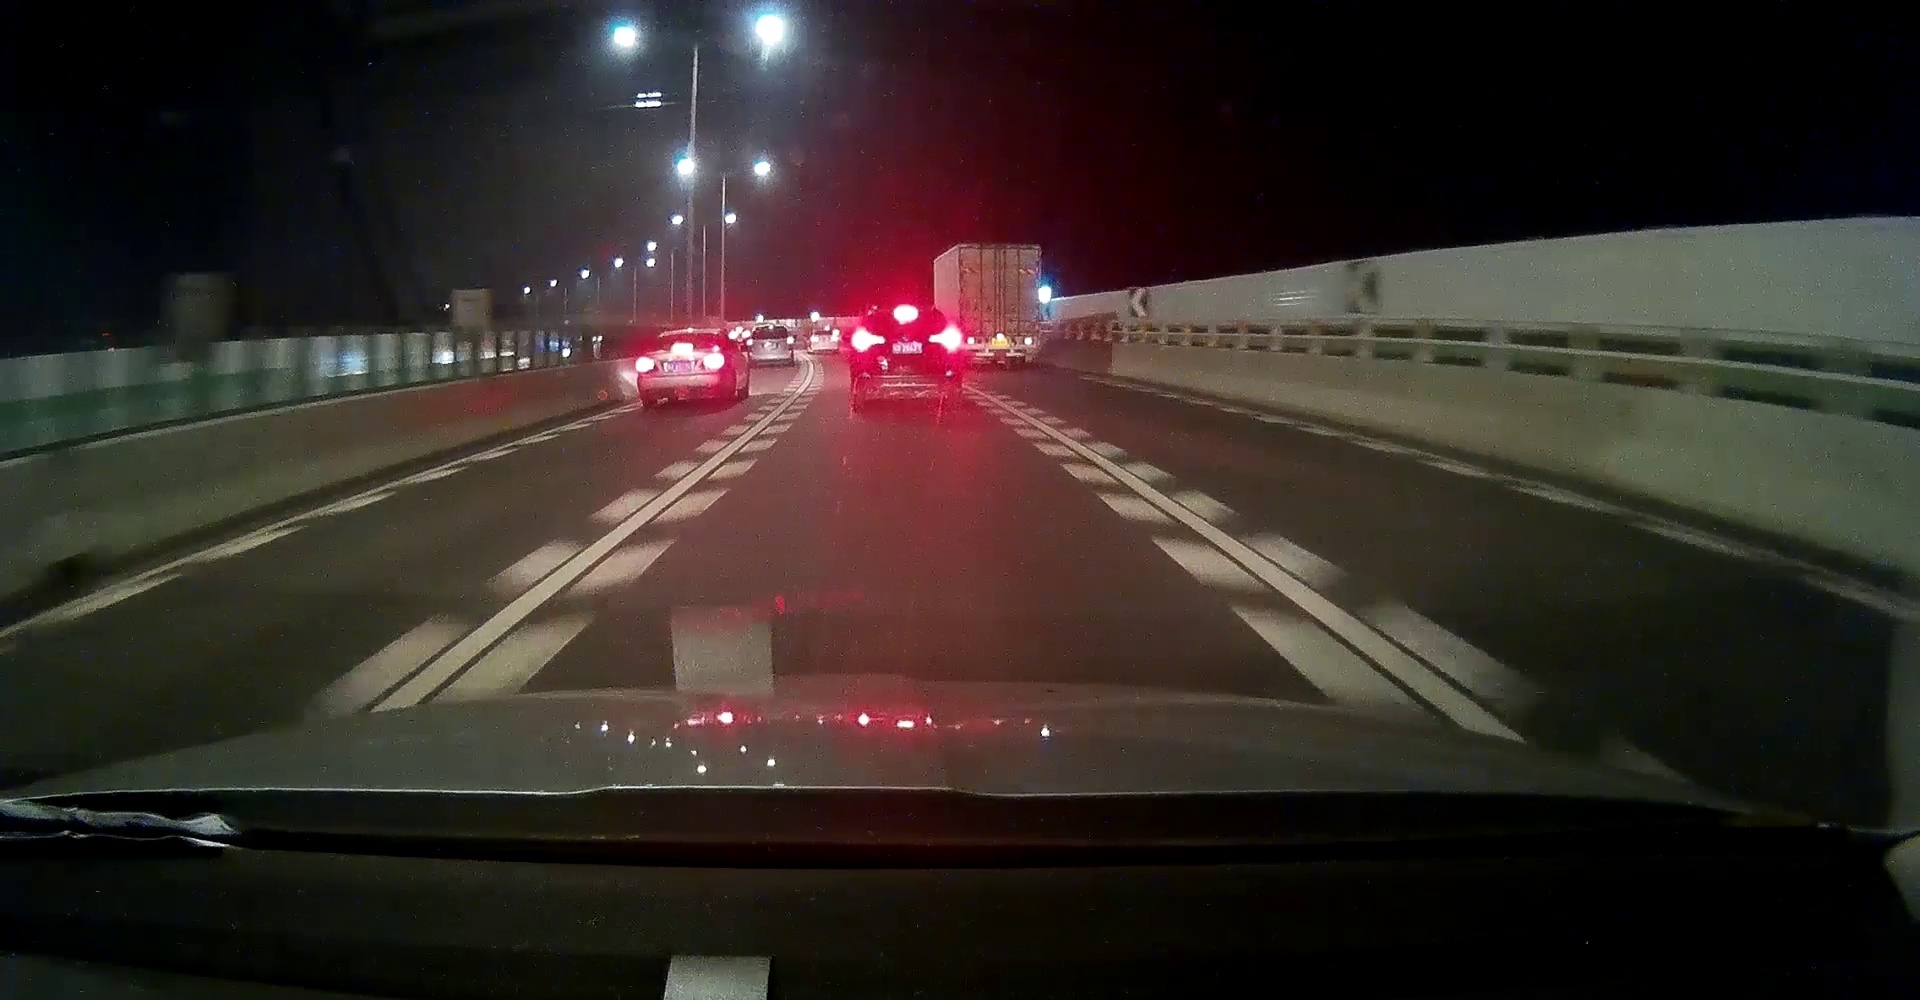L_light: (852, 332, 884, 350), (637, 358, 658, 372), (747, 339, 753, 346)
R_light: (928, 331, 960, 350), (698, 355, 721, 371), (787, 338, 794, 344)
T_light: (894, 311, 918, 319), (673, 344, 693, 352), (767, 326, 775, 329)
night-brake: (851, 308, 961, 409), (637, 329, 724, 409), (745, 325, 794, 367)
